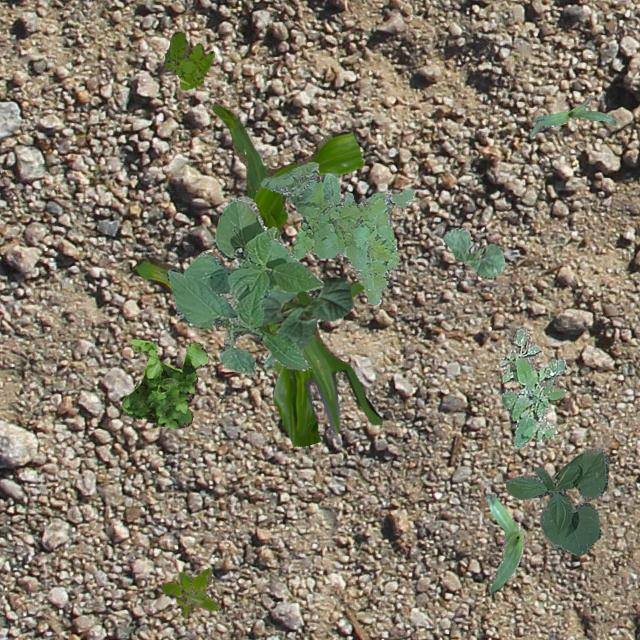crop: (130, 104, 382, 446), (165, 195, 322, 376), (503, 446, 608, 554), (258, 278, 352, 366), (528, 94, 614, 136), (486, 492, 522, 592), (442, 226, 504, 276)
weed: (258, 160, 412, 304), (498, 326, 566, 448), (119, 338, 208, 428), (160, 566, 220, 616), (164, 31, 214, 88)
